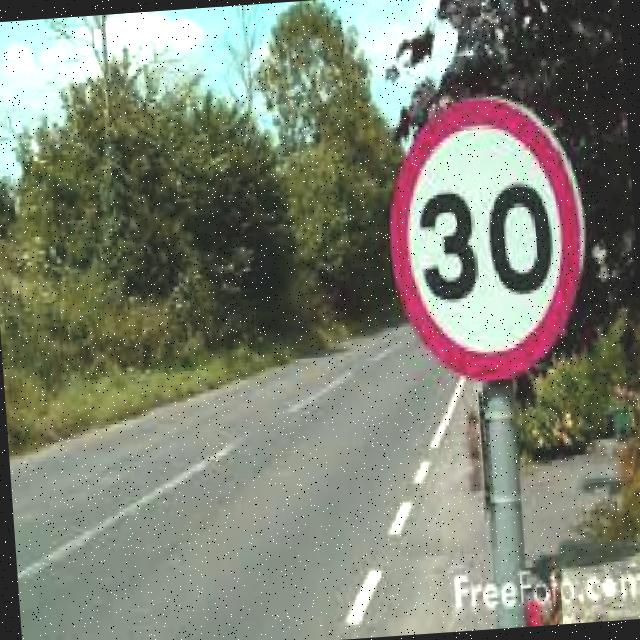Ograniczenie predkosci do 30: (378, 90, 589, 394)
